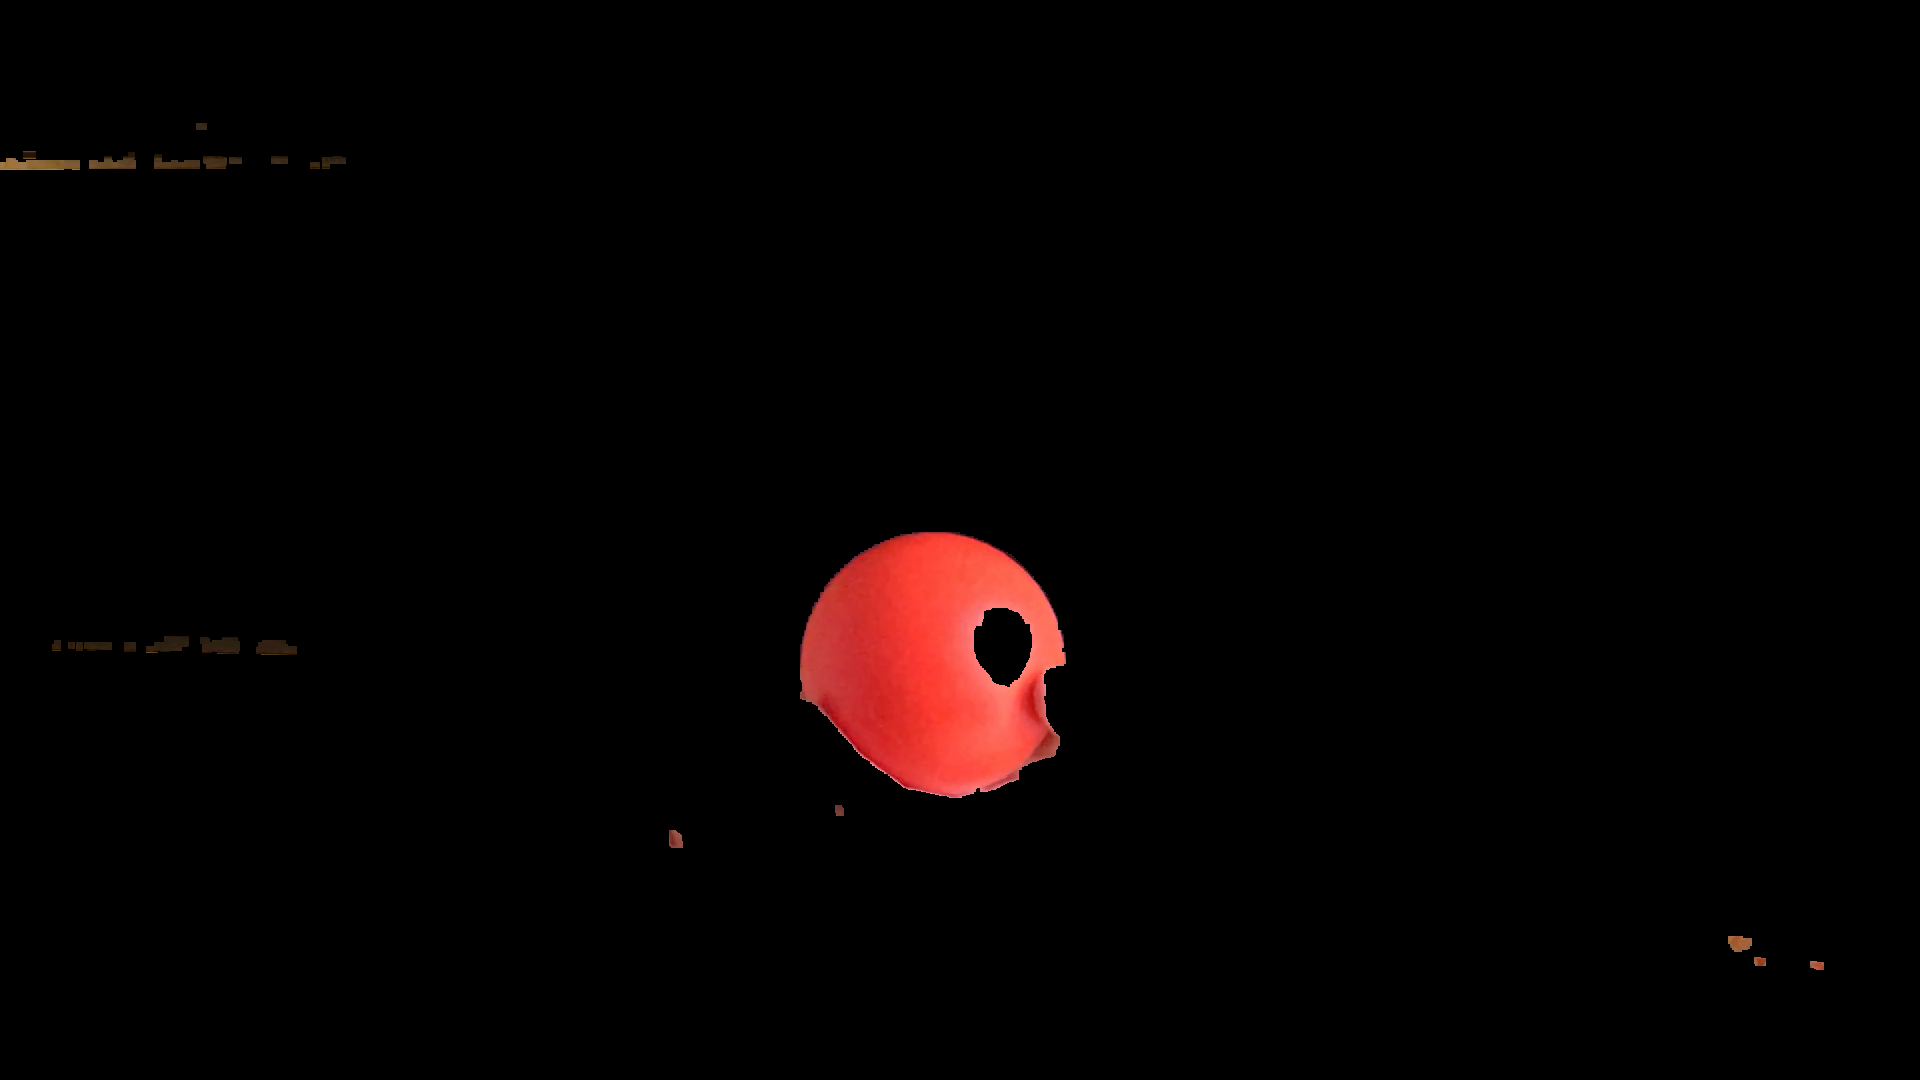Ball: (800, 531, 1065, 803)
